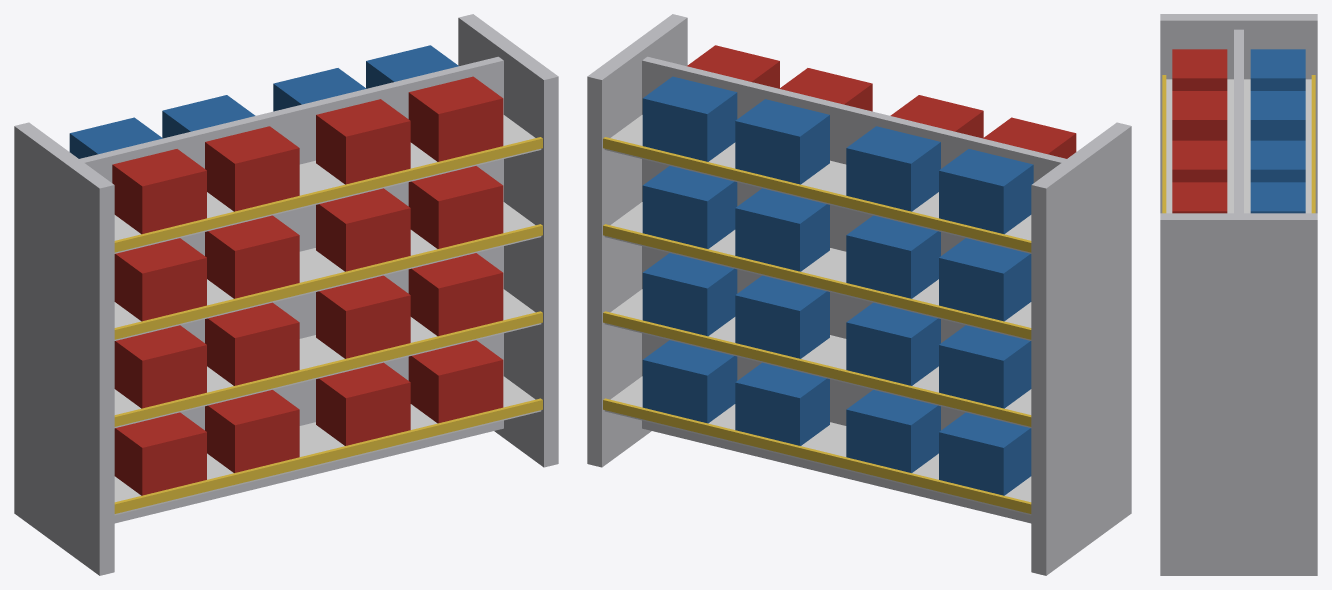
The model's file is interior_quidland_aisle_shelf.glb.
3 views of the same model, side by side, from view 1: azimuth 30°, elevation 25°; view 2: azimuth 150°, elevation 25°; view 3: azimuth 270°, elevation 25° (orthographic). The views are drawn at different scales.
Visible parts, largest first — view 1: interior_quidland_aisle_shelf; view 2: interior_quidland_aisle_shelf; view 3: interior_quidland_aisle_shelf.
Part boxes in pixels (box(x1,y1,x2,y2)): interior_quidland_aisle_shelf: box(14, 14, 558, 575); interior_quidland_aisle_shelf: box(587, 14, 1131, 575); interior_quidland_aisle_shelf: box(1160, 14, 1317, 575).
Size of the model in its own units: 2.48 by 2 by 0.8.
1 material, 1 textured.
